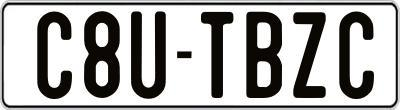8: (84, 11, 120, 99)
B: (244, 11, 281, 103)
C: (337, 10, 377, 99), (37, 11, 74, 103)
T: (198, 12, 233, 103)
U: (131, 8, 167, 98)
Z: (293, 12, 332, 102)
